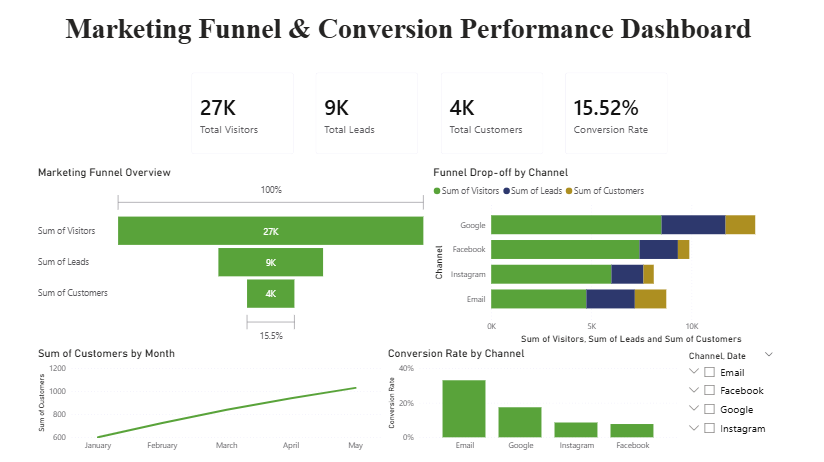

The dashboard page shown, as its layout file describes it:
{"tool":"powerbi","page":{"name":"Page 1","canvas":[1280,720],"ordinal":0},"visuals":[{"type":"cardVisual","fields":{"Data":["Sheet1.Total Visitors"]},"box":[282.5,97.5,192.5,160],"z":0},{"type":"cardVisual","fields":{"Data":["Sheet1.Total Leads"]},"box":[475,97.5,192.5,160],"z":1},{"type":"cardVisual","fields":{"Data":["Sheet1.Total Customers"]},"box":[667.5,97.5,192.5,160],"z":2},{"type":"cardVisual","fields":{"Data":["Sheet1.Conversion Rate"]},"box":[860,97.5,192.5,160],"z":3},{"type":"funnel","title":"Marketing Funnel Overview","fields":{"Y":["Sum(Sheet1.Visitors)","Sum(Sheet1.Leads)","Sum(Sheet1.Customers)"]},"box":[57.5,257.5,610,280],"z":4},{"type":"clusteredColumnChart","fields":{"Category":["Sheet1.Channel"],"Y":["Sheet1.Conversion Rate"]},"box":[597.5,537.5,457.5,170],"z":5},{"type":"barChart","title":"Funnel Drop-off by Channel","fields":{"Category":["Sheet1.Channel"],"Y":["Sum(Sheet1.Visitors)","Sum(Sheet1.Leads)","Sum(Sheet1.Customers)"]},"box":[667.5,257.5,542.5,280],"z":6},{"type":"lineChart","fields":{"Category":["Sheet1.Date.Variation.Date Hierarchy.Month","Sheet1.Date.Variation.Date Hierarchy.Day"],"Y":["Sum(Sheet1.Customers)"]},"box":[57.5,537.5,540,170],"z":7},{"type":"slicer","fields":{"Values":["Sheet1.Channel","Sheet1.Date"]},"box":[1055,537.5,155,170],"z":8},{"type":"textbox","box":[57.5,0,1152.5,97.5],"z":9}]}

Visuals, with their boxes in screenshot pixels (x1, y1, x2, y2), scaled from the page's 1280x720 canvas onto the 824x462 screenshot:
cardVisual - Sheet1.Total Visitors: <box>182,63,306,165</box>
cardVisual - Sheet1.Total Leads: <box>306,63,430,165</box>
cardVisual - Sheet1.Total Customers: <box>430,63,554,165</box>
cardVisual - Sheet1.Conversion Rate: <box>554,63,678,165</box>
"Marketing Funnel Overview" funnel: <box>37,165,430,345</box>
clusteredColumnChart - Sheet1.Channel x Sheet1.Conversion Rate: <box>385,345,679,454</box>
"Funnel Drop-off by Channel" barChart: <box>430,165,779,345</box>
lineChart - Sheet1.Date.Variation.Date Hierarchy.Month x Sheet1.Date.Variation.Date Hierarchy.Day: <box>37,345,385,454</box>
slicer - Sheet1.Channel x Sheet1.Date: <box>679,345,779,454</box>
textbox: <box>37,0,779,63</box>
